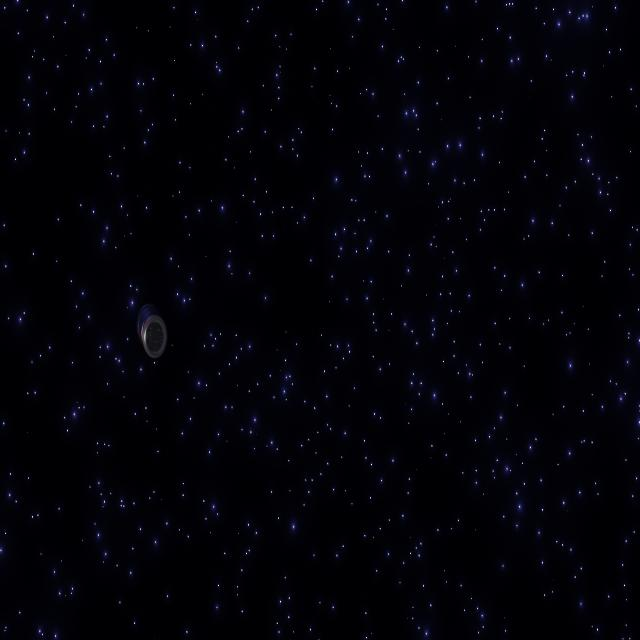large_debris: (132, 295, 170, 361)
